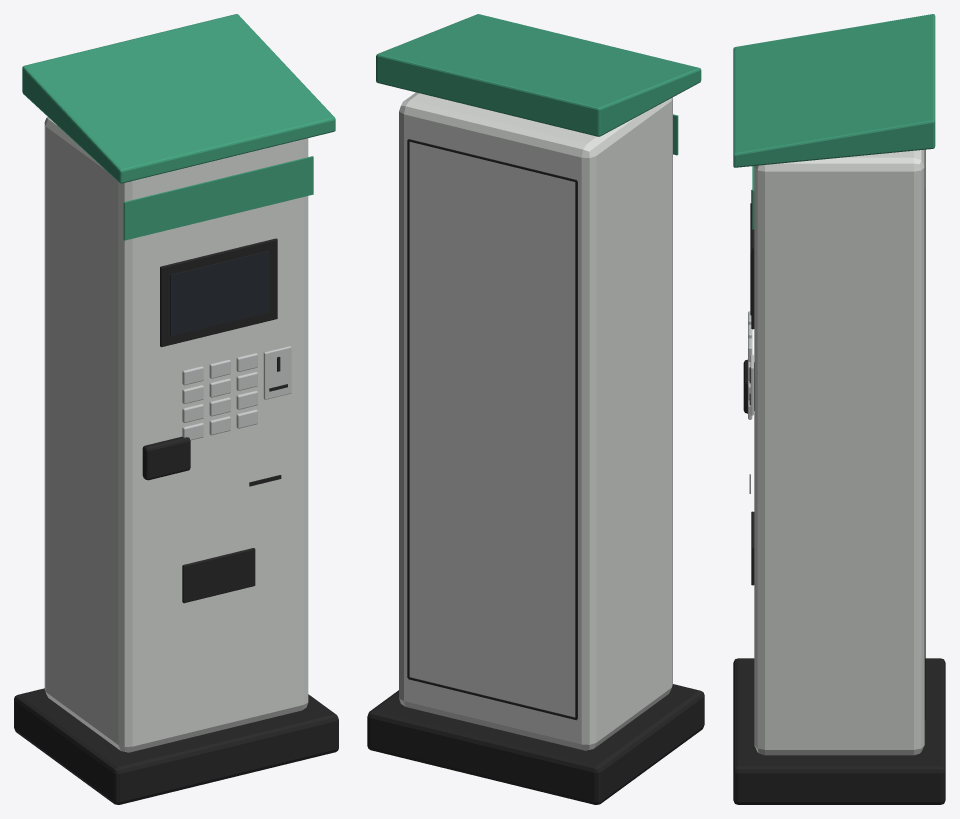
The model's file is city-bicycle-parking-pay-station.glb.
3 views of the same model, side by side, from view 1: azimuth 30°, elevation 25°; view 2: azimuth 150°, elevation 25°; view 3: azimuth 270°, elevation 25° (orthographic). The views are drawn at different scales.
Visible parts, largest first — view 1: Assembly | Light grey kiosk enamel, Assembly | Green accent panel, Assembly | Slot shadow, Assembly | Dark LCD glass, Assembly | Silver keypad; view 2: Assembly | Light grey kiosk enamel, Assembly | Green accent panel, Assembly | Slot shadow; view 3: Assembly | Light grey kiosk enamel, Assembly | Green accent panel, Assembly | Slot shadow, Assembly | Silver keypad.
Boxes of the visible parts, box(x1,y1,x2,y2) form: Assembly | Light grey kiosk enamel: box(44, 117, 308, 752); Assembly | Green accent panel: box(22, 14, 335, 240); Assembly | Slot shadow: box(14, 238, 338, 804); Assembly | Dark LCD glass: box(170, 251, 269, 336); Assembly | Silver keypad: box(182, 346, 291, 440); Assembly | Light grey kiosk enamel: box(399, 92, 672, 750); Assembly | Green accent panel: box(376, 14, 701, 155); Assembly | Slot shadow: box(367, 139, 704, 804); Assembly | Light grey kiosk enamel: box(754, 149, 924, 755); Assembly | Green accent panel: box(733, 14, 935, 229); Assembly | Slot shadow: box(733, 149, 945, 804); Assembly | Silver keypad: box(748, 311, 753, 419).
Bounding box in the file's own units: 0.5 × 1.42 × 0.4.
